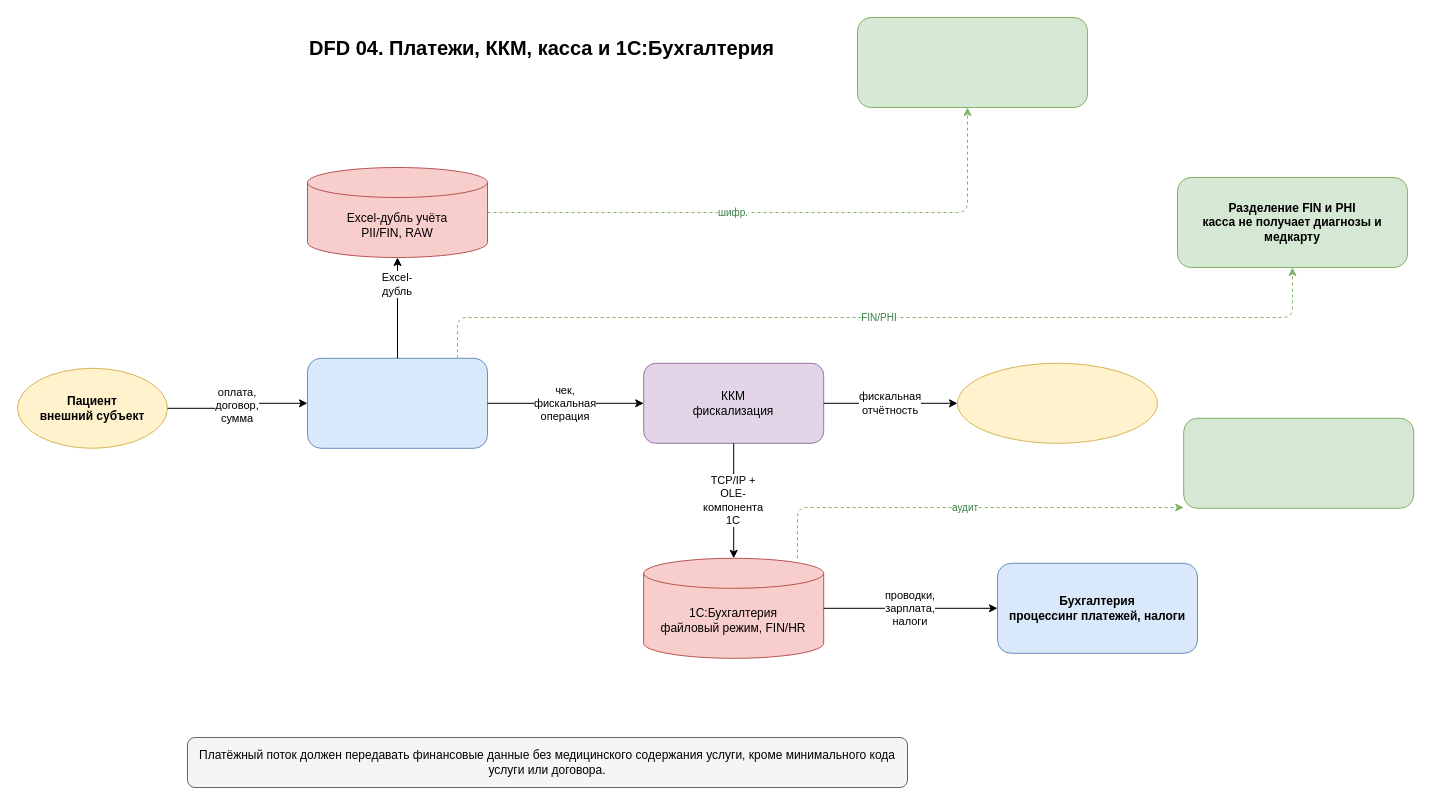
Image size: 1432x805. Some labels were removed from this diagram. Each missing label, with the centre of its shape:
"Аудит платежей касса, 1С, ККМ, сверка Excel/1С" belongs at point 1298,462.
"Защита FIN шифрование, RBAC, резервные копии, TLS/TCP" belongs at point 972,62.
"Кассир приём оплаты" belongs at point 397,402.
"Налоговые органы внешний субъект" belongs at point 1057,402.
